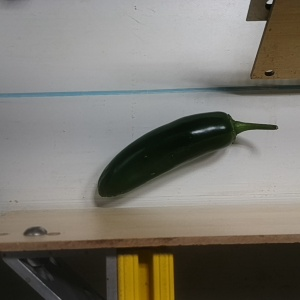Cut Point: (218, 111, 244, 149)
